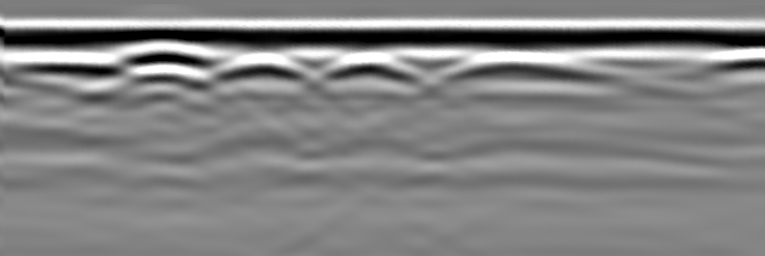pipe: (118, 28, 222, 66)
steel: (449, 54, 625, 83), (321, 53, 427, 81), (215, 53, 309, 81)
